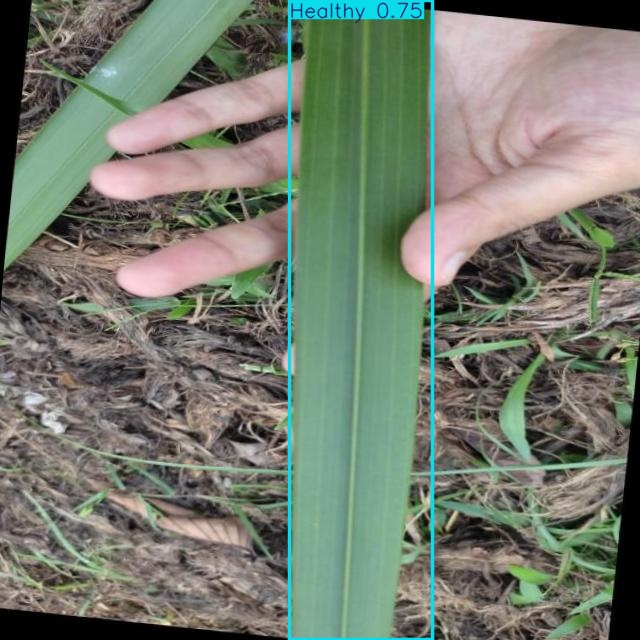Healthy: (290, 1, 432, 640)
